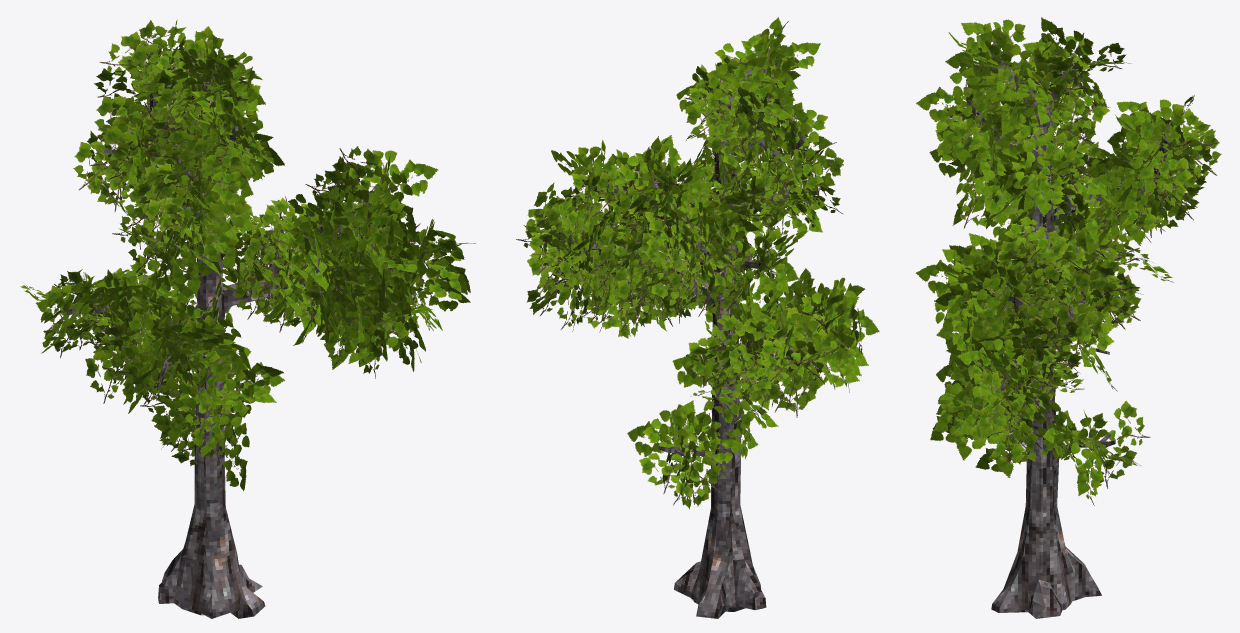
Rendered from tree_1.fbx.
The picture shows the model from 3 angles, left to right: view 1: azimuth 30°, elevation 25°; view 2: azimuth 150°, elevation 25°; view 3: azimuth 270°, elevation 25°; orthographic projection. The views are drawn at different scales.
Parts seen in each view (by area): view 1: Tree, Tree|leaves|Dupli|59, Tree|leaves|Dupli|78, Tree|leaves|Dupli|222, Tree|leaves|Dupli|90, Tree|leaves|Dupli|33, Tree|leaves|Dupli|8, Tree|leaves|Dupli|98, Tree|leaves|Dupli|258, Tree|leaves|Dupli|170, Tree|leaves|Dupli|29, Tree|leaves|Dupli|99 (+54 smaller); view 2: Tree, Tree|leaves|Dupli|298, Tree|leaves|Dupli|101, Tree|leaves|Dupli|281, Tree|leaves|Dupli|69, Tree|leaves|Dupli|297, Tree|leaves|Dupli|282, Tree|leaves|Dupli|70, Tree|leaves|Dupli|128, Tree|leaves|Dupli|53, Tree|leaves|Dupli|168, Tree|leaves|Dupli|36 (+53 smaller); view 3: Tree, Tree|leaves|Dupli|73, Tree|leaves|Dupli|167, Tree|leaves|Dupli|165, Tree|leaves|Dupli|51, Tree|leaves|Dupli|120, Tree|leaves|Dupli|125, Tree|leaves|Dupli|72, Tree|leaves|Dupli|223, Tree|leaves|Dupli|227, Tree|leaves|Dupli|27, Tree|leaves|Dupli|198 (+73 smaller).
Boxes of the visible parts, <box> form: Tree: <box>67,64,430,618</box>; Tree|leaves|Dupli|59: <box>141,180,244,270</box>; Tree|leaves|Dupli|78: <box>102,344,197,445</box>; Tree|leaves|Dupli|222: <box>288,217,354,303</box>; Tree|leaves|Dupli|90: <box>85,312,179,403</box>; Tree|leaves|Dupli|33: <box>144,140,253,211</box>; Tree|leaves|Dupli|8: <box>180,414,249,491</box>; Tree|leaves|Dupli|98: <box>175,371,249,456</box>; Tree|leaves|Dupli|258: <box>112,203,200,294</box>; Tree|leaves|Dupli|170: <box>352,150,438,249</box>; Tree|leaves|Dupli|29: <box>202,100,263,177</box>; Tree|leaves|Dupli|99: <box>179,347,284,436</box>; Tree: <box>558,69,824,618</box>; Tree|leaves|Dupli|298: <box>705,56,767,156</box>; Tree|leaves|Dupli|101: <box>672,350,756,444</box>; Tree|leaves|Dupli|281: <box>767,320,855,417</box>; Tree|leaves|Dupli|69: <box>627,408,721,504</box>; Tree|leaves|Dupli|297: <box>725,311,805,391</box>; Tree|leaves|Dupli|282: <box>760,328,859,387</box>; Tree|leaves|Dupli|70: <box>639,420,744,494</box>; Tree|leaves|Dupli|128: <box>686,59,793,149</box>; Tree|leaves|Dupli|53: <box>618,135,694,233</box>; Tree|leaves|Dupli|168: <box>544,146,630,233</box>; Tree|leaves|Dupli|36: <box>767,109,827,194</box>; Tree: <box>966,59,1169,618</box>; Tree|leaves|Dupli|73: <box>1071,400,1150,495</box>; Tree|leaves|Dupli|167: <box>971,264,1065,338</box>; Tree|leaves|Dupli|165: <box>968,266,1071,350</box>; Tree|leaves|Dupli|51: <box>1118,107,1201,202</box>; Tree|leaves|Dupli|120: <box>1013,67,1090,174</box>; Tree|leaves|Dupli|125: <box>1022,36,1109,133</box>; Tree|leaves|Dupli|72: <box>1041,413,1136,488</box>; Tree|leaves|Dupli|223: <box>973,348,1053,439</box>; Tree|leaves|Dupli|227: <box>957,339,1038,438</box>; Tree|leaves|Dupli|27: <box>916,67,1023,153</box>; Tree|leaves|Dupli|198: <box>971,379,1057,477</box>.
Size of the model in its own units: 4378 by 6151 by 3048.
